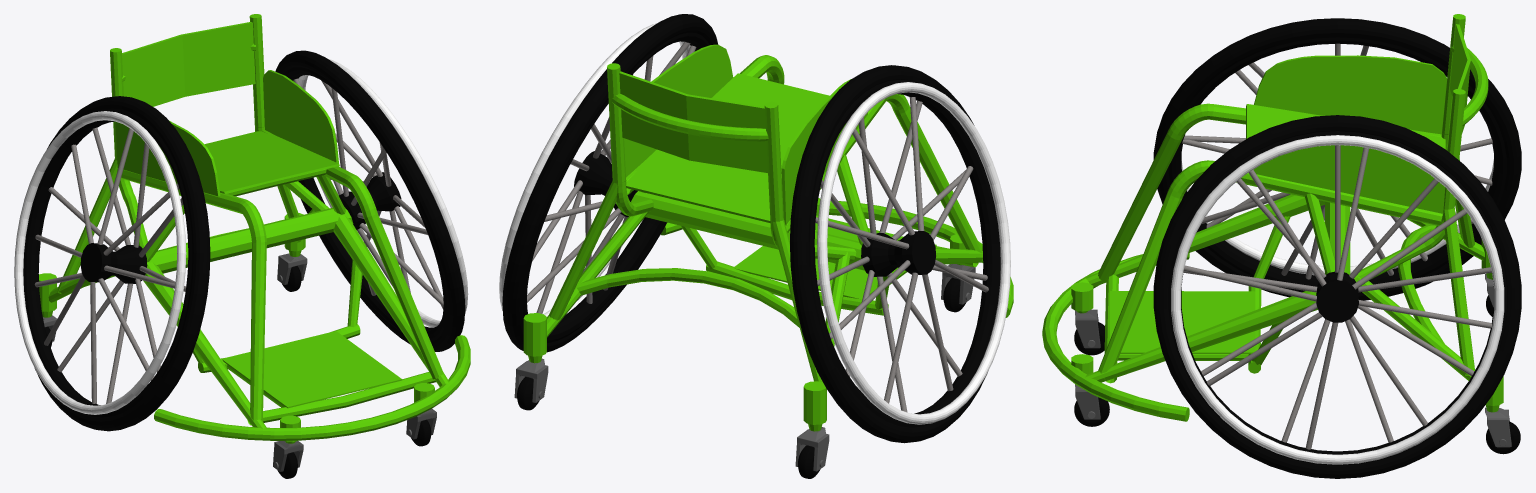
The model's file is wheelchair_1.glb.
The picture shows the model from 3 angles, left to right: view 1: azimuth 30°, elevation 25°; view 2: azimuth 150°, elevation 25°; view 3: azimuth 270°, elevation 25°; orthographic projection. The views are drawn at different scales.
Visible parts, largest first — view 1: Frame, Circle.012, R_Front_Wheel, R_Rear_Wheel; view 2: Circle.012, Frame, R_Rear_Wheel, R_Front_Wheel; view 3: Circle.012, Frame, R_Front_Wheel, R_Rear_Wheel.
Part boxes in pixels (left/top/right/bottom): Frame: left=39, top=14, right=470, bottom=443; Circle.012: left=14, top=50, right=468, bottom=431; R_Front_Wheel: left=273, top=409, right=436, bottom=478; R_Rear_Wheel: left=43, top=253, right=307, bottom=347; Circle.012: left=499, top=14, right=1010, bottom=443; Frame: left=523, top=44, right=1013, bottom=431; R_Rear_Wheel: left=514, top=358, right=829, bottom=478; R_Front_Wheel: left=941, top=264, right=975, bottom=312; Circle.012: left=1153, top=18, right=1521, bottom=478; Frame: left=1042, top=14, right=1503, bottom=421; R_Front_Wheel: left=1074, top=309, right=1109, bottom=426; R_Rear_Wheel: left=1485, top=274, right=1520, bottom=454.
Bounding box in the file's own units: 0.683 × 0.5567 × 0.7192.
